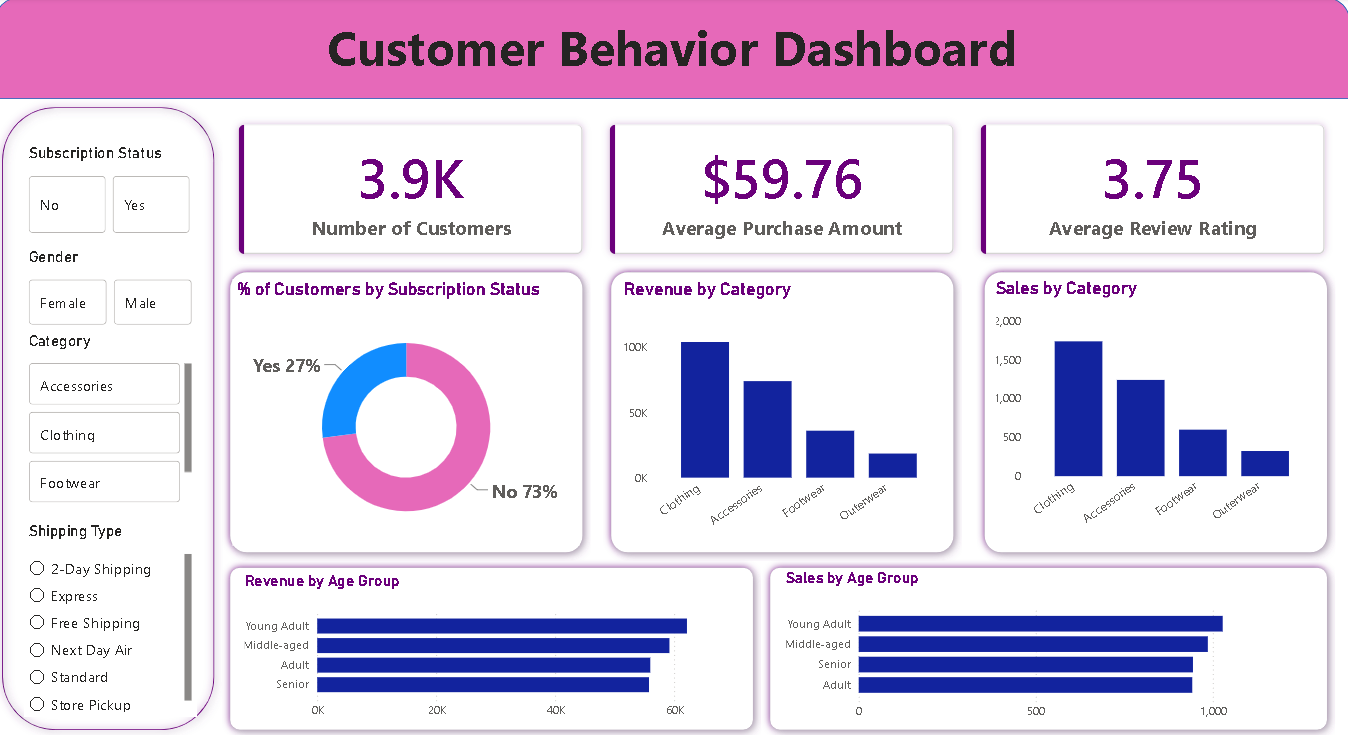

The page's visual inventory and layout, read from the dashboard file:
{"tool":"powerbi","page":{"name":"Page 1","canvas":[1500,820],"ordinal":0},"visuals":[{"type":"cardVisual","fields":{"Data":["customer.Number of Customers","customer.Average Purchase Amount","customer.Average Review Rating"]},"box":[241.4,112.9,1257.9,199.3],"z":0},{"type":"shape","box":[0,0,1499.3,112.9],"z":1000},{"type":"textbox","box":[0,13.3,1499.3,99.7],"z":2000},{"type":"shape","box":[252.5,294.5,407.5,327.8],"z":3000},{"type":"donutChart","title":"% of Customers by Subscription Status","fields":{"Category":["customer.subscription_status"],"Y":["CountNonNull(customer.customer_id)"]},"box":[263.5,312.3,383.1,294.5],"z":4000},{"type":"shape","box":[1085.1,294.5,396.4,327.8],"z":5000},{"type":"shape","box":[673.2,294.5,396.4,327.8],"z":6000},{"type":"clusteredColumnChart","title":"Revenue by Category","fields":{"Y":["Sum(customer.purchase_amount)"],"Category":["customer.category"]},"box":[691,312.3,363.2,294.5],"z":7000},{"type":"clusteredColumnChart","title":"Sales by Category","fields":{"Y":["CountNonNull(customer.customer_id)"],"Category":["customer.category"]},"box":[1102.9,310,363.2,294.5],"z":8000},{"type":"shape","box":[0,112.9,252.5,706.5],"z":9000},{"type":"advancedSlicerVisual","title":"Subscription Status","fields":{"Values":["customer.subscription_status"]},"box":[33.2,161.7,188.2,104.1],"z":10000},{"type":"advancedSlicerVisual","title":"Gender","fields":{"Values":["customer.gender"]},"box":[33.2,276.8,190.5,90.8],"z":11000},{"type":"advancedSlicerVisual","title":"Category","fields":{"Values":["customer.category"]},"box":[33.2,369.8,190.5,194.9],"z":12000},{"type":"listSlicer","title":"Shipping Type","fields":{"Values":["customer.shipping_type"]},"box":[33.2,580.2,190.5,214.8],"z":13000},{"type":"shape","box":[252.5,622.3,595.7,197.1],"z":15000},{"type":"shape","box":[848.2,622.3,633.4,197.1],"z":16000},{"type":"clusteredBarChart","title":"Sales by Age Group","fields":{"Y":["CountNonNull(customer.customer_id)"],"Category":["customer.age_group"]},"box":[870.3,631.2,573.6,177.2],"z":17000},{"type":"clusteredBarChart","title":"Revenue by Age Group","fields":{"Y":["Sum(customer.purchase_amount)"],"Category":["customer.age_group"]},"box":[272.4,635.6,560.3,172.7],"z":17001}]}

Visuals, with their boxes in screenshot pixels (x1, y1, x2, y2), scaled from the page's 1500x820 canvas onto the 1348x735 screenshot:
cardVisual - customer.Number of Customers x customer.Average Purchase Amount: BBox(217, 101, 1347, 280)
shape: BBox(0, 0, 1347, 101)
textbox: BBox(0, 12, 1347, 101)
shape: BBox(227, 264, 593, 558)
"% of Customers by Subscription Status" donutChart: BBox(237, 280, 581, 544)
shape: BBox(975, 264, 1331, 558)
shape: BBox(605, 264, 961, 558)
"Revenue by Category" clusteredColumnChart: BBox(621, 280, 947, 544)
"Sales by Category" clusteredColumnChart: BBox(991, 278, 1318, 542)
shape: BBox(0, 101, 227, 734)
"Subscription Status" advancedSlicerVisual: BBox(30, 145, 199, 238)
"Gender" advancedSlicerVisual: BBox(30, 248, 201, 329)
"Category" advancedSlicerVisual: BBox(30, 331, 201, 506)
"Shipping Type" listSlicer: BBox(30, 520, 201, 713)
shape: BBox(227, 558, 762, 734)
shape: BBox(762, 558, 1331, 734)
"Sales by Age Group" clusteredBarChart: BBox(782, 566, 1298, 725)
"Revenue by Age Group" clusteredBarChart: BBox(245, 570, 748, 725)
